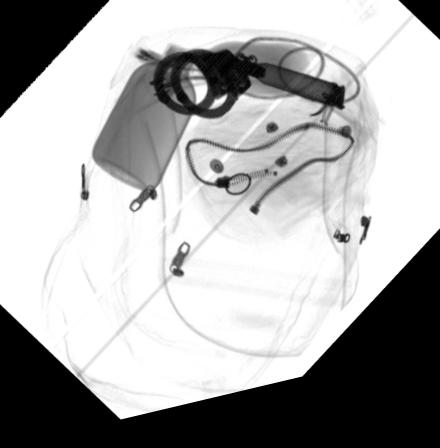Bullet: (215, 70, 345, 125)
HandCuffs: (150, 58, 259, 129)
